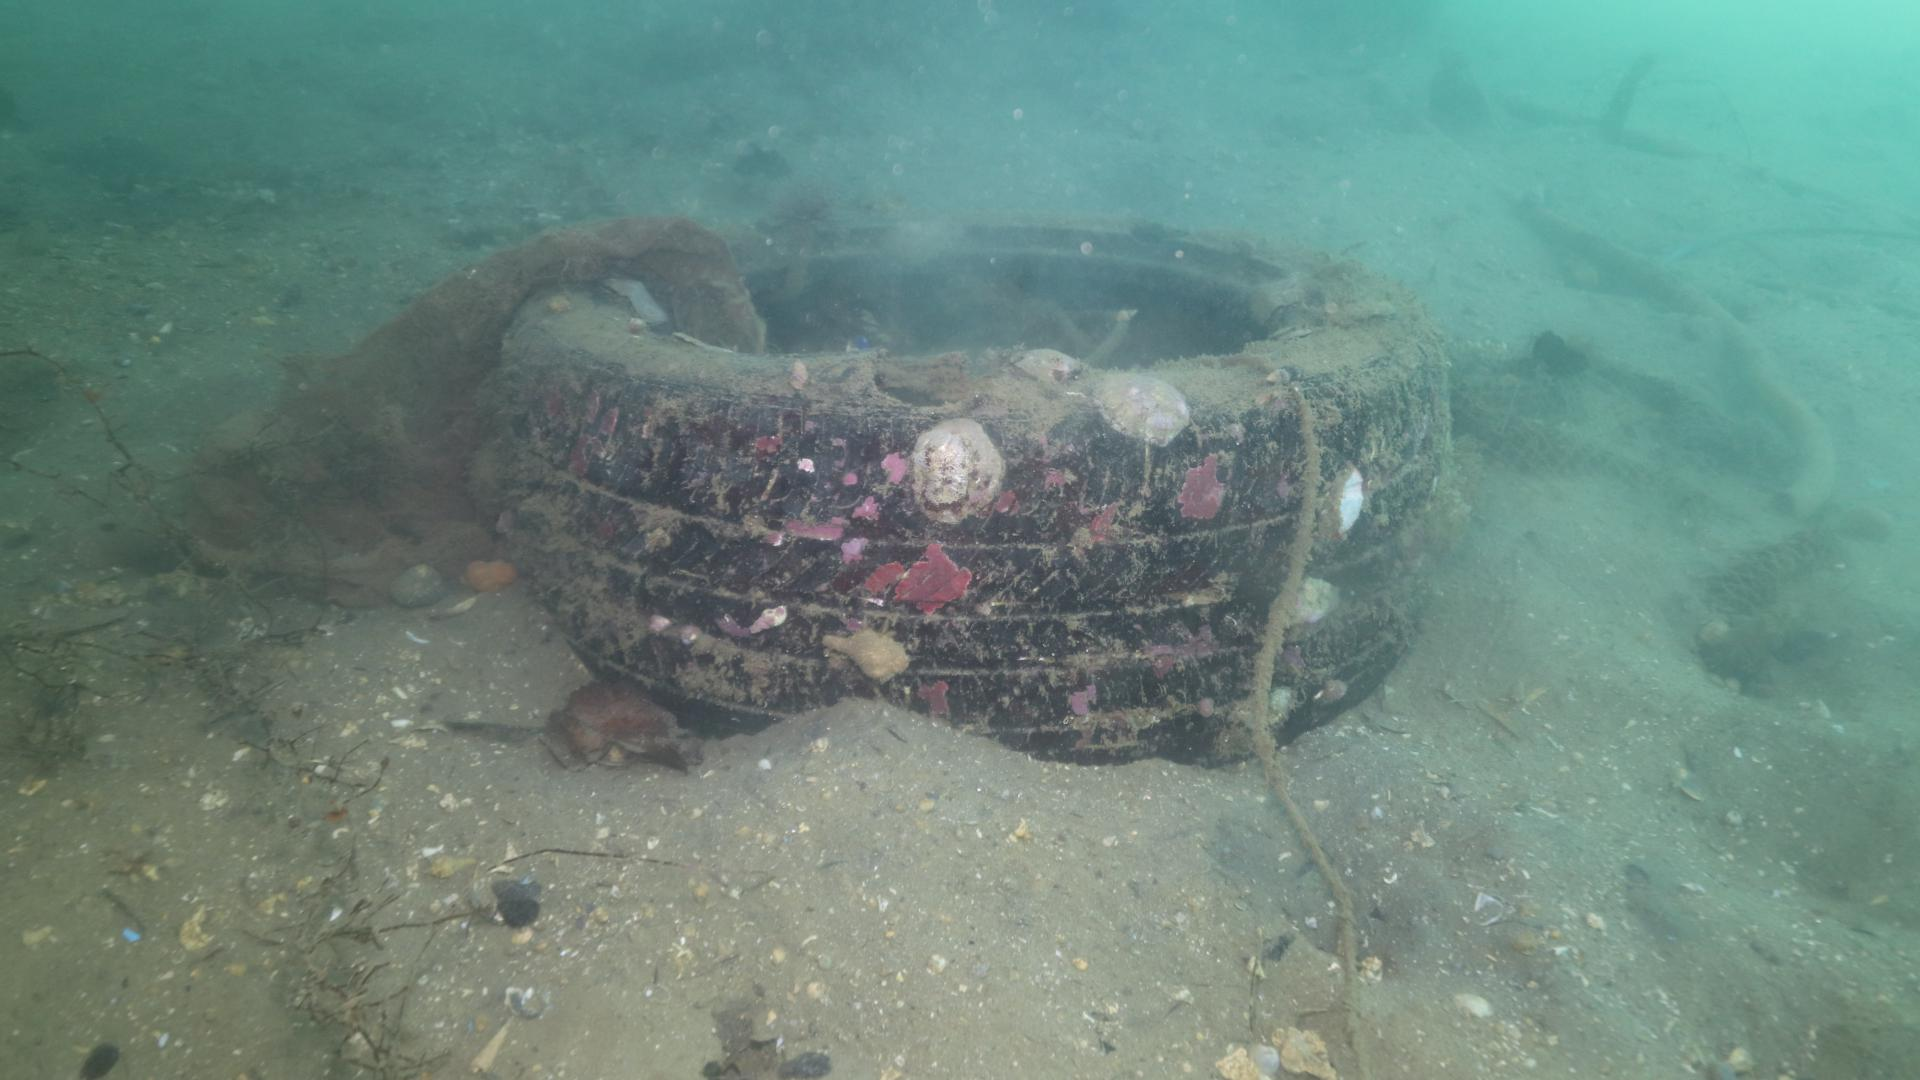rope: (1197, 328, 1389, 1079)
tire: (501, 207, 1443, 767)
